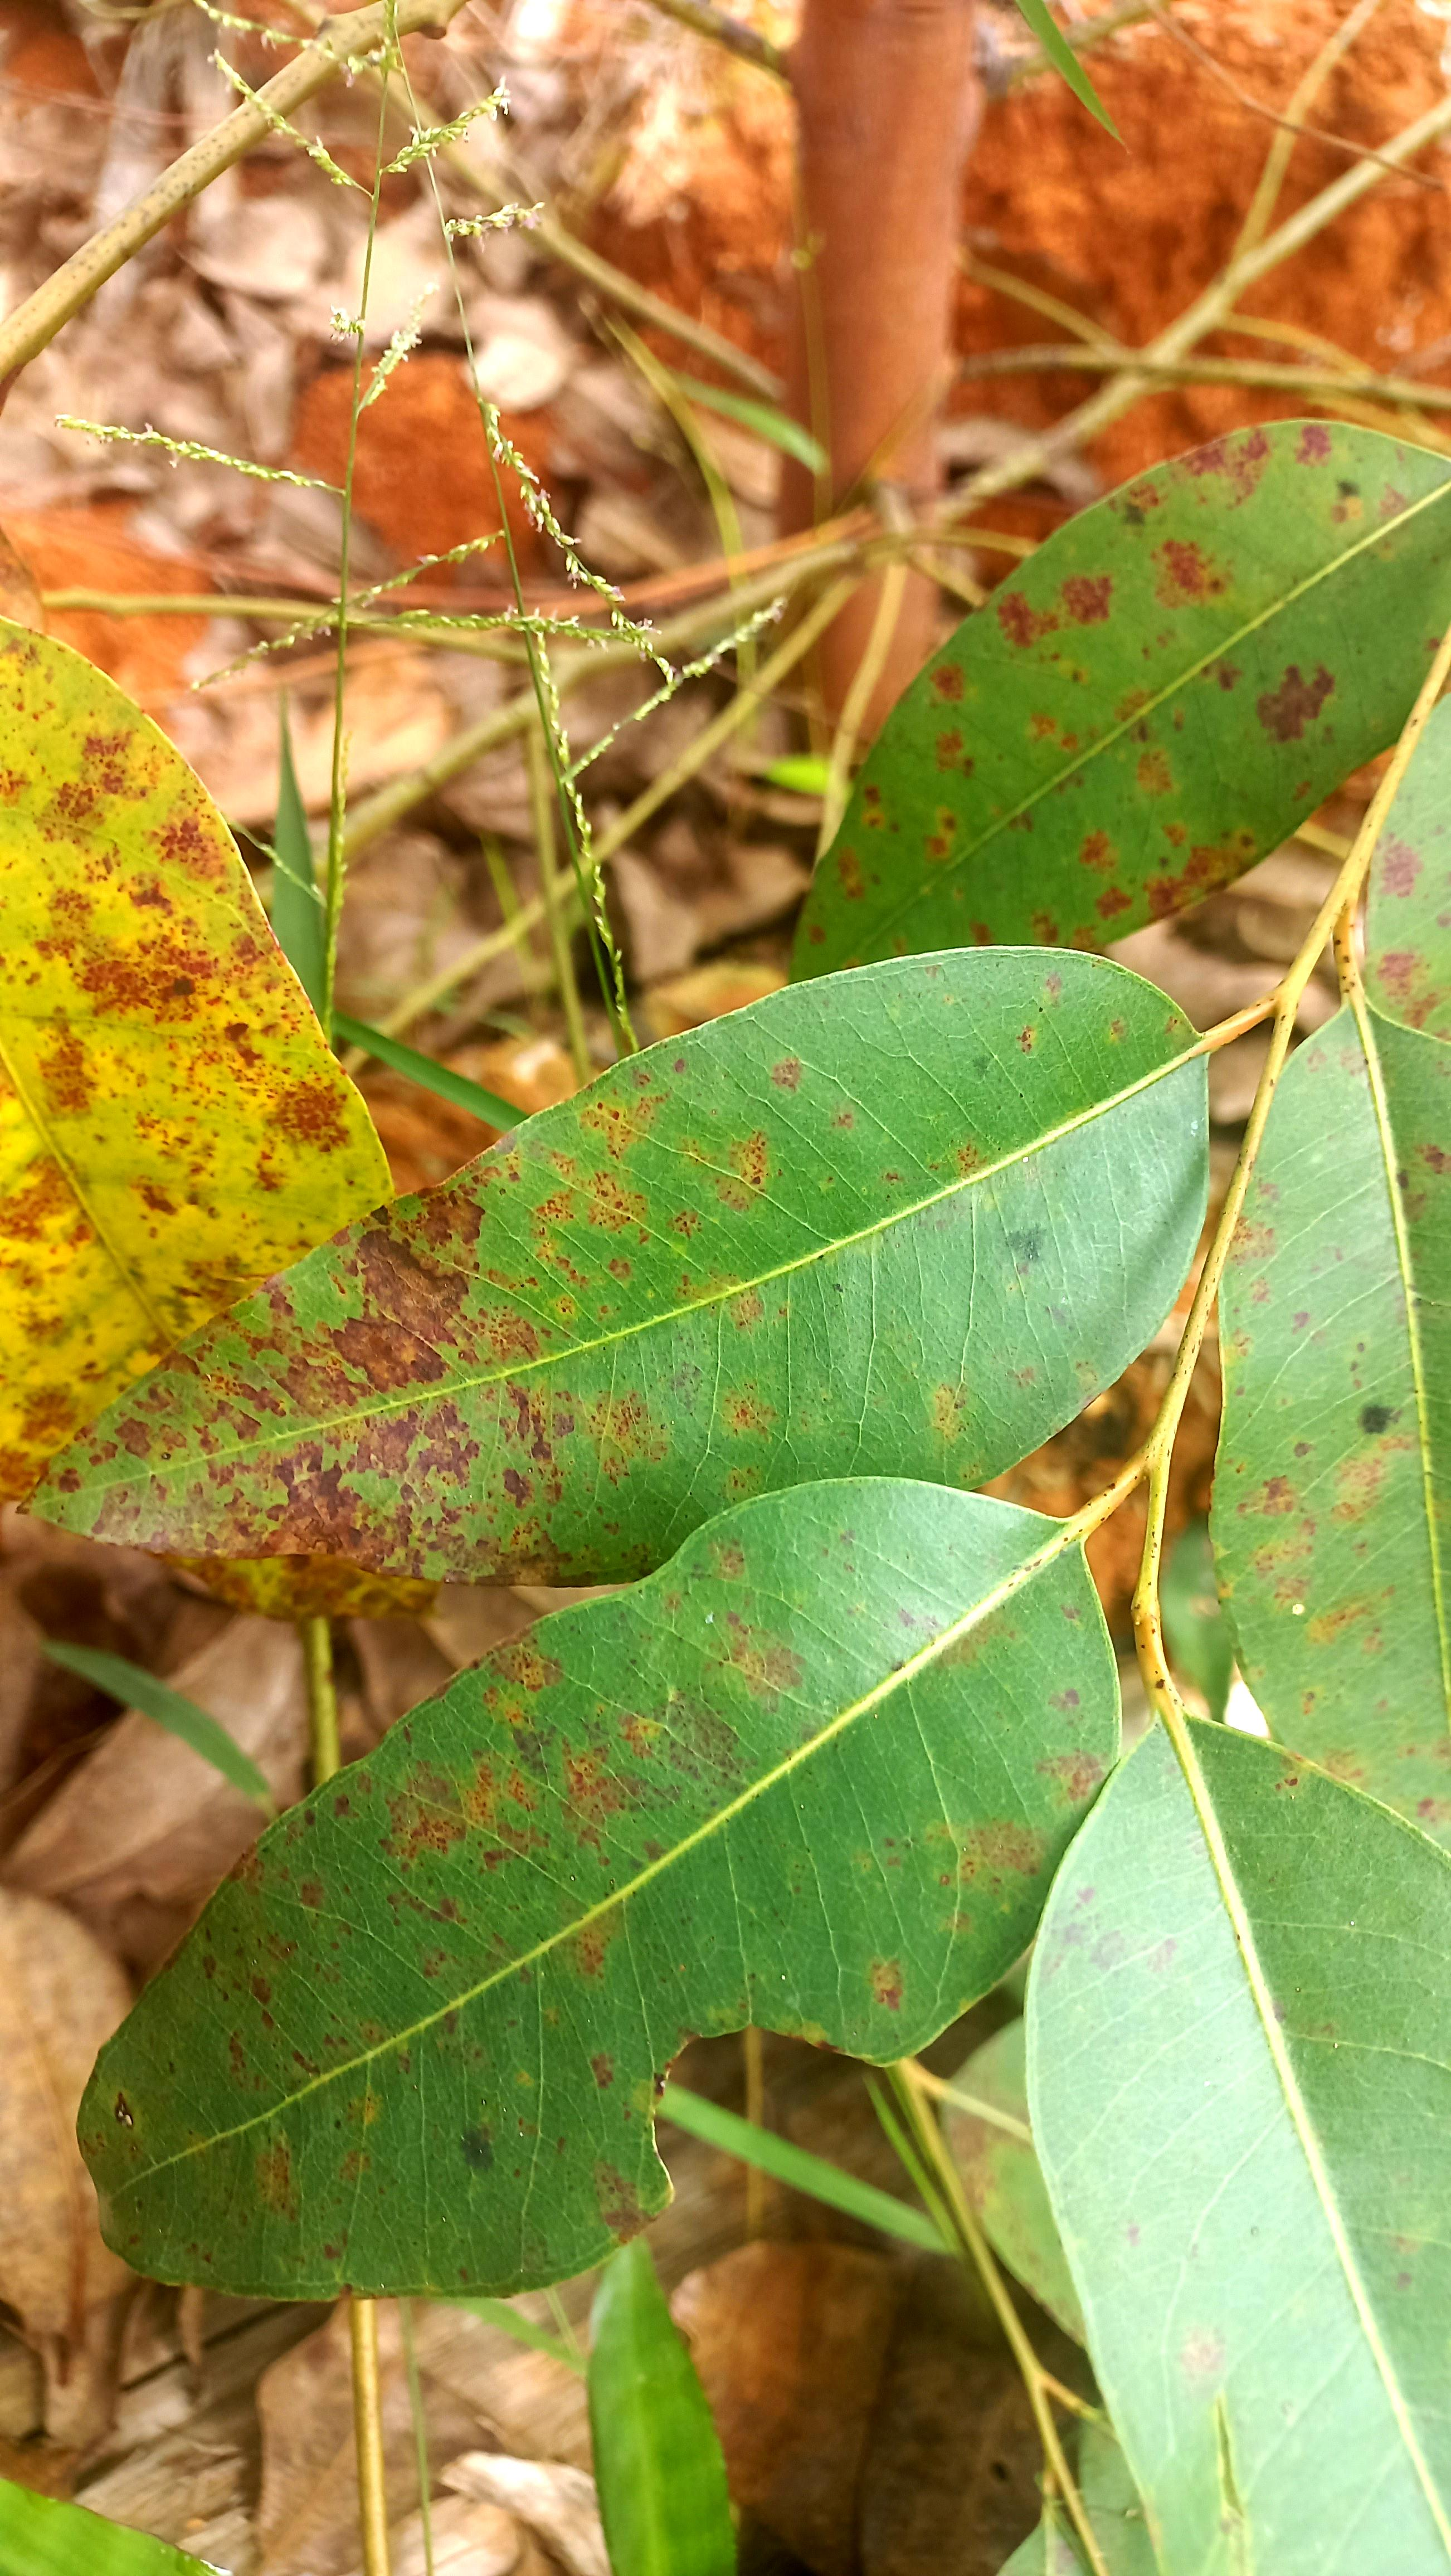Xanthomonas: (23, 962, 1210, 1622), (85, 1640, 1125, 2252), (791, 453, 1433, 945), (0, 580, 391, 1194)
